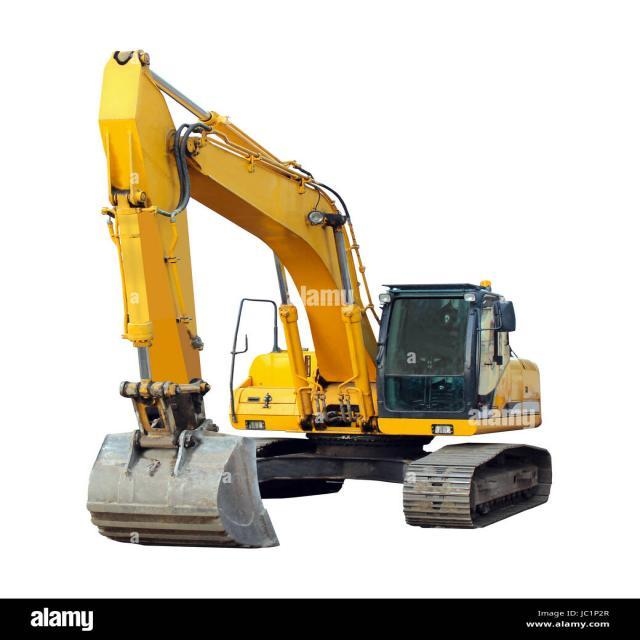C_E: (83, 46, 556, 556)
